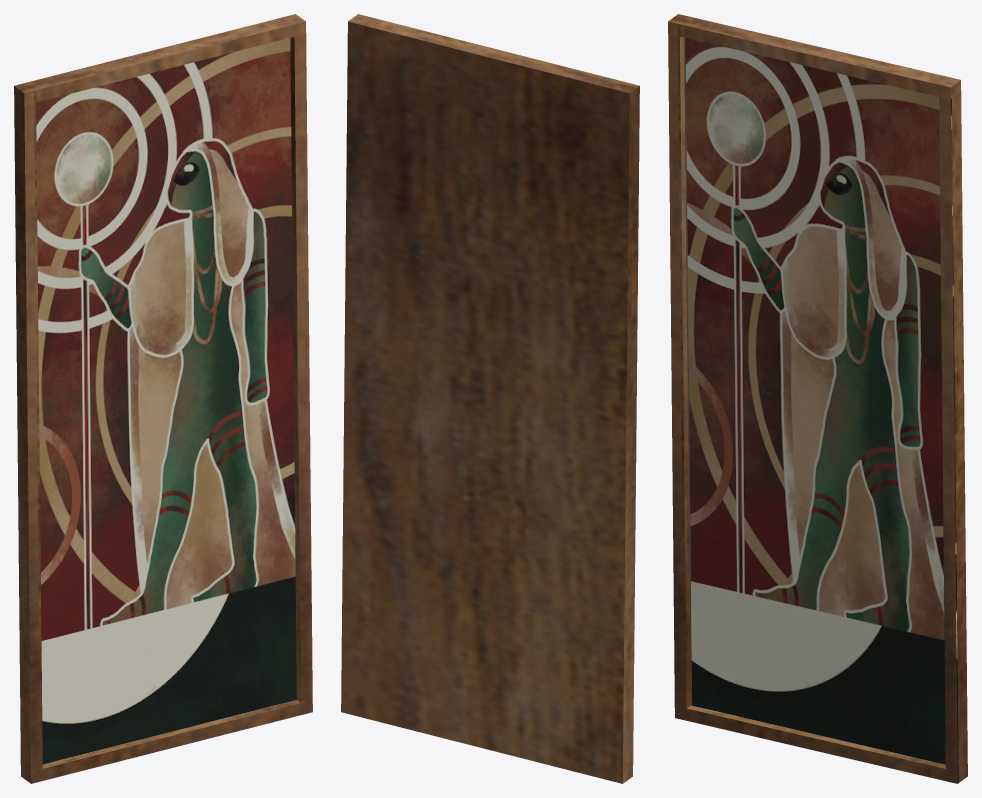
File: obraz3.glb
The picture shows the model from 3 angles, left to right: view 1: azimuth 30°, elevation 25°; view 2: azimuth 150°, elevation 25°; view 3: azimuth 330°, elevation 25°; orthographic projection.
Parts seen in each view (by area): view 1: Cube.012; view 2: Cube.012; view 3: Cube.012.
Boxes of the visible parts, box(x1,y1,x2,y2) form: Cube.012: box(14, 14, 312, 783); Cube.012: box(341, 14, 639, 783); Cube.012: box(668, 14, 967, 783).
Size of the model in its own units: 2.65 by 6.11 by 0.1636.
1 material, 1 textured.
